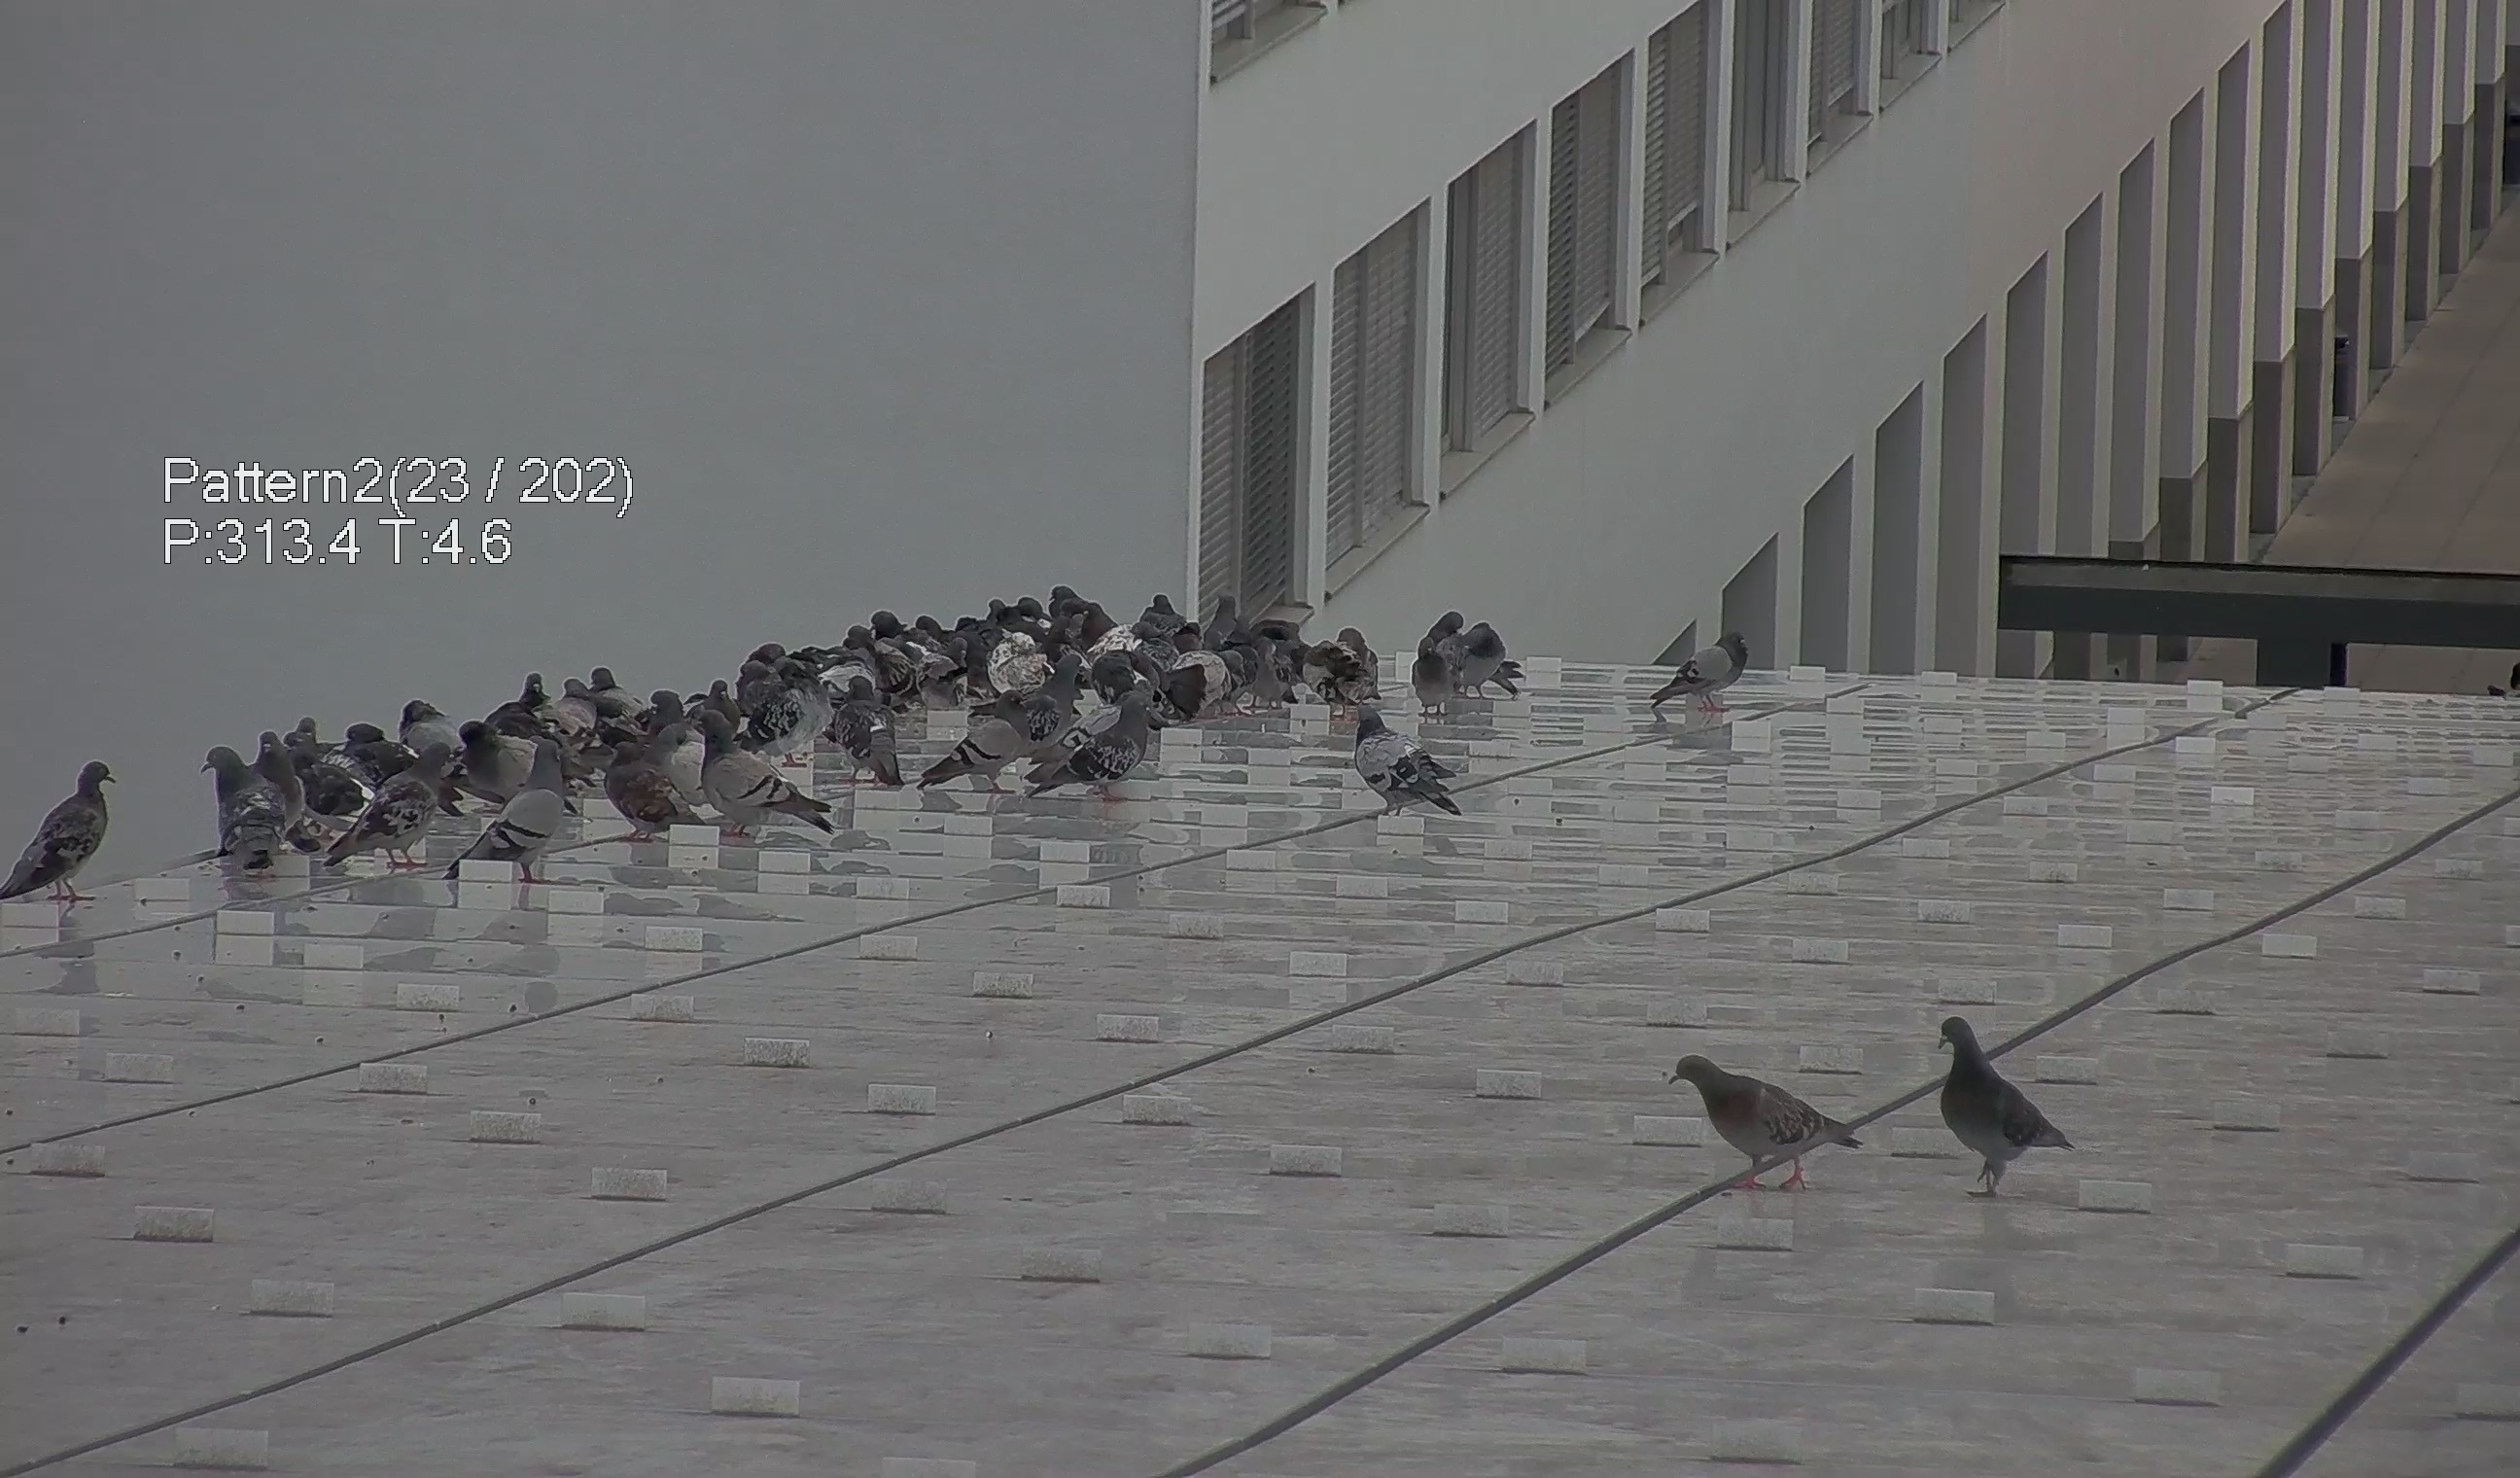Pigeon: (1664, 1045, 1889, 1189), (1934, 1003, 2094, 1195), (2, 750, 116, 929), (1331, 693, 1475, 832), (696, 707, 834, 843), (1650, 609, 1764, 721), (475, 741, 568, 876), (923, 688, 1034, 801), (1046, 695, 1157, 799), (195, 741, 281, 871), (1451, 614, 1532, 711), (237, 697, 317, 779), (1402, 637, 1456, 721), (517, 660, 547, 704)
